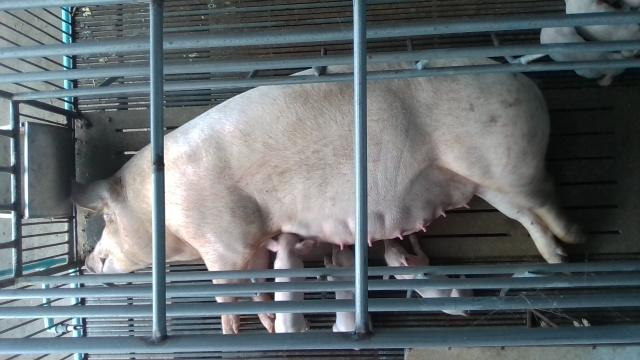piglet: (384, 235, 474, 318), (264, 233, 316, 334), (542, 28, 626, 86), (564, 0, 640, 58), (325, 244, 372, 332)
sow-sleep-lactate: (72, 55, 590, 336)
